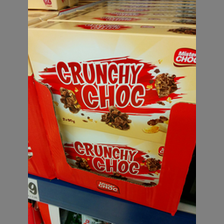chocolate: (29, 20, 197, 138), (48, 122, 167, 188)
